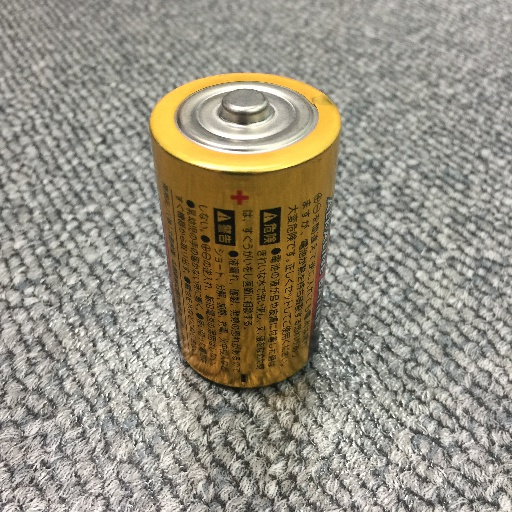Battery_0: (141, 60, 349, 398)
